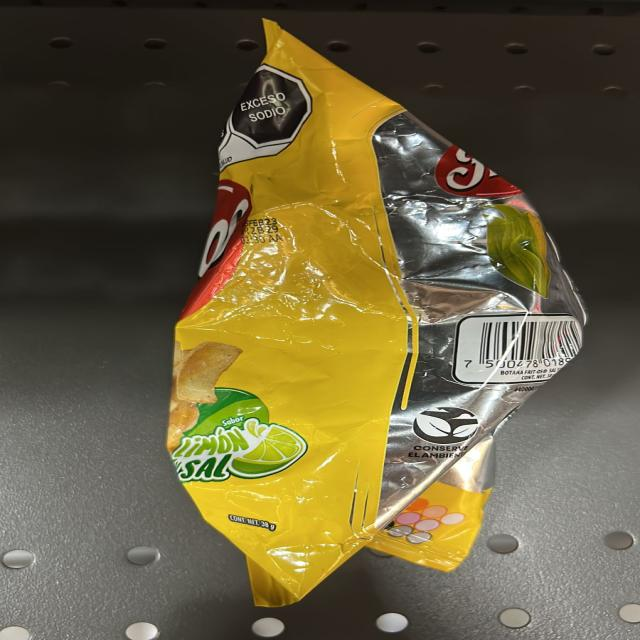chipsPapatinas: (187, 6, 480, 574)
